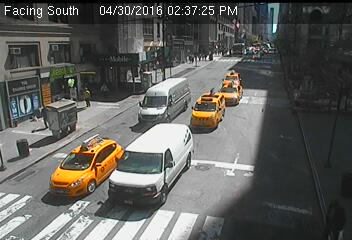neg: (198, 102, 231, 147), (228, 142, 259, 182), (17, 10, 41, 42), (10, 62, 32, 91), (184, 192, 205, 220), (2, 104, 23, 132), (135, 106, 155, 132), (171, 7, 191, 33), (30, 60, 50, 85), (113, 7, 130, 29), (94, 135, 110, 156), (220, 1, 236, 22), (72, 5, 86, 25), (177, 100, 191, 119), (261, 80, 273, 96), (46, 13, 57, 28), (147, 36, 158, 51)
pos: (78, 81, 97, 105), (36, 102, 54, 126), (185, 51, 194, 64)
